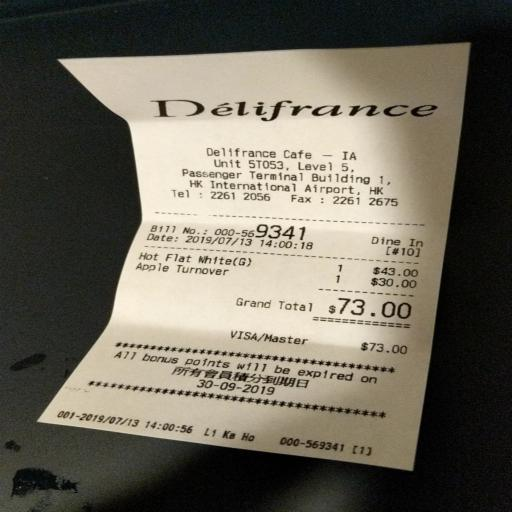paper: (28, 20, 512, 495)
